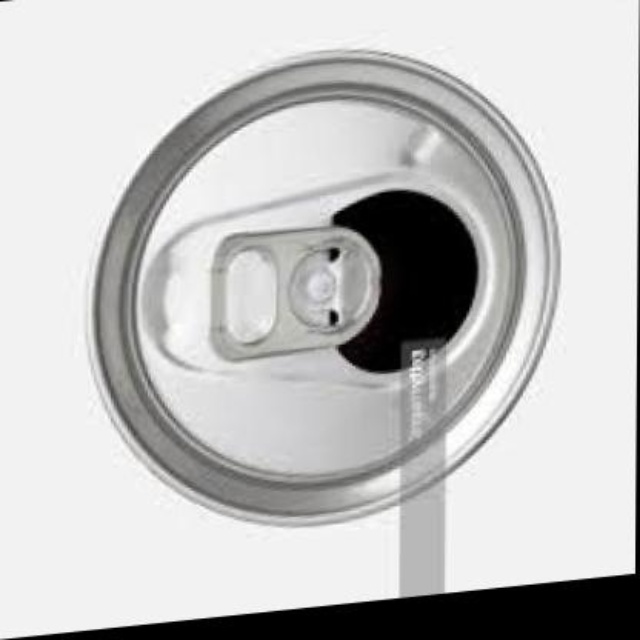trash: (94, 52, 557, 523)
